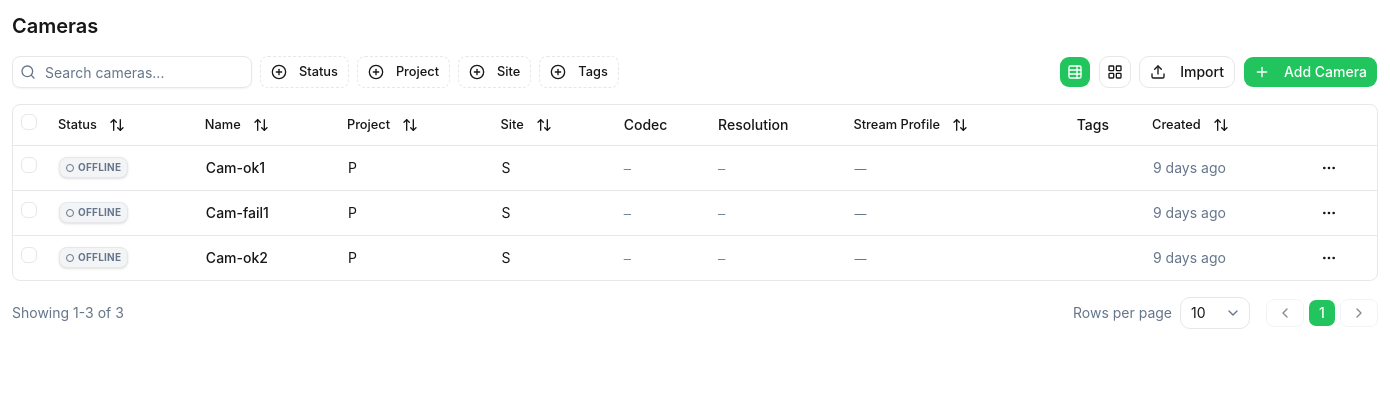
Scenario: TenantCamerasPage — partial failure handling (D-06a) › Partial failure: rowSelection reduces to failed IDs only + toast summary
expect the text "Cam-ok1" is shown: met, box [206,158,265,176]
expect the text "Cam-fail1" is shown: met, box [206,204,269,220]
Click the checkbox named "Select camera Cam-ok1".
click(29, 165)  # box [21,157,37,173]
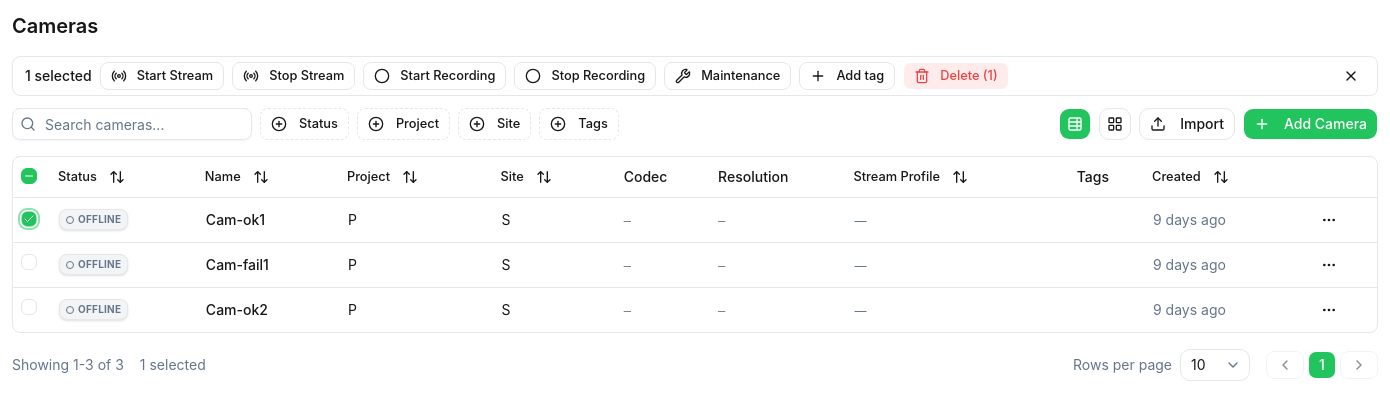
Click the checkbox named "Select camera Cam-fail1".
click(29, 262)  # box [21,254,37,270]
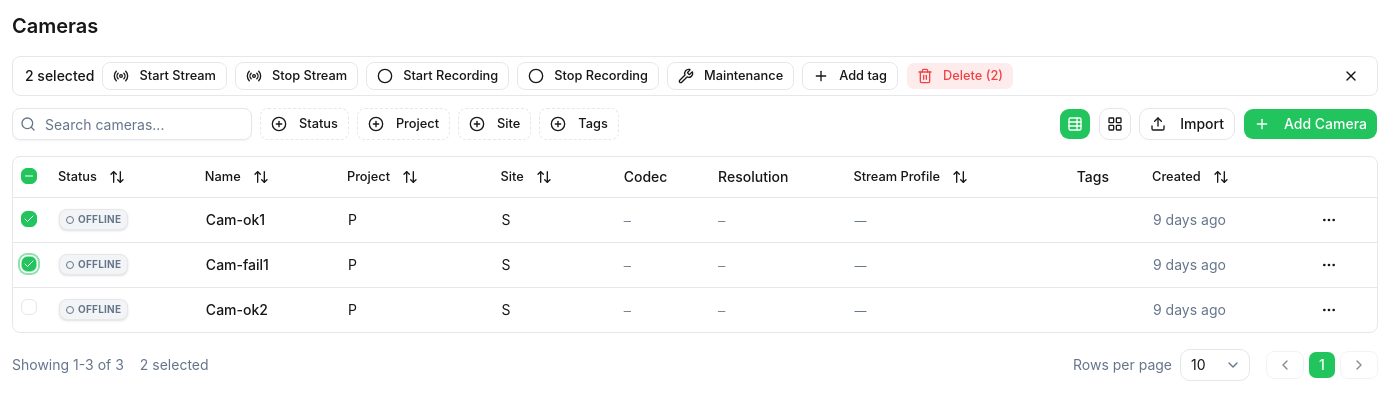
Click the checkbox named "Select camera Cam-ok2".
click(29, 307)  # box [21,299,37,315]
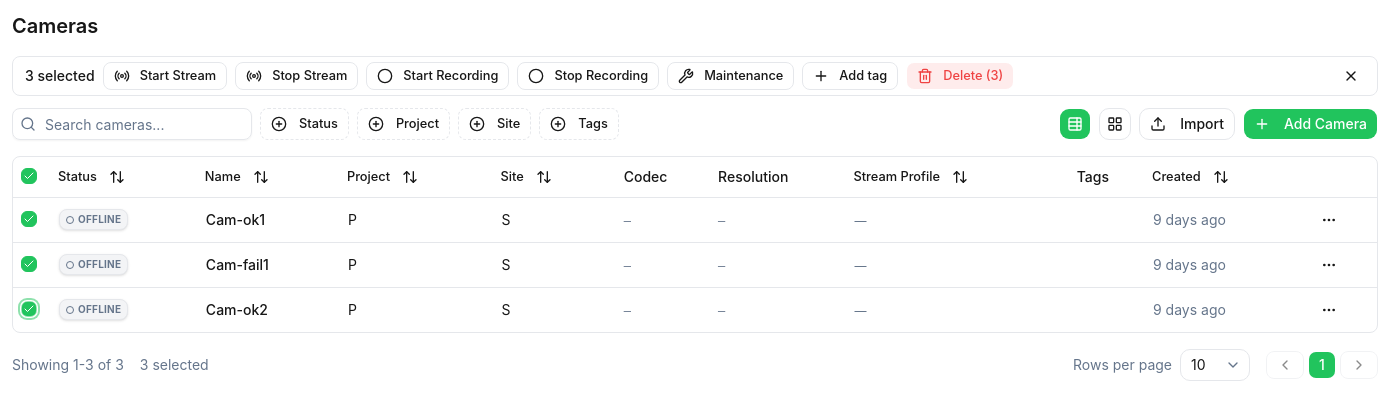
Click the button "Start Stream".
click(165, 76)  # box [103,62,227,90]
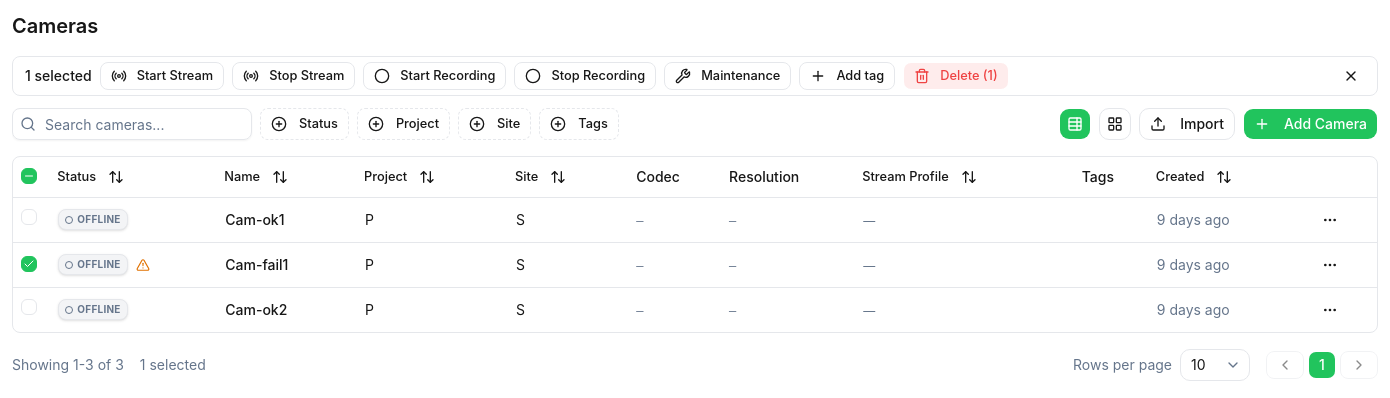
expect the 1st text "1 selected" is shown: met, box [25,66,92,86]
